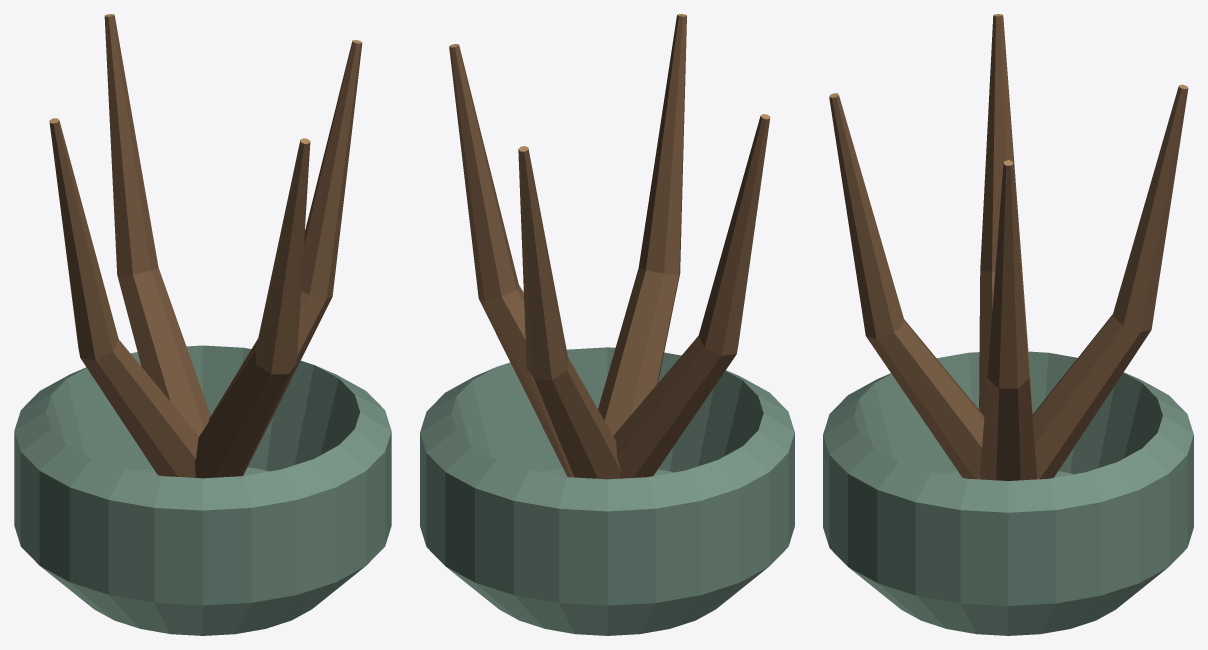
File: root_resonator.glb
The picture shows the model from 3 angles, left to right: view 1: azimuth 30°, elevation 25°; view 2: azimuth 150°, elevation 25°; view 3: azimuth 270°, elevation 25°; orthographic projection.
Parts seen in each view (by area): view 1: Root resonator • ceramic root cradle; view 2: Root resonator • ceramic root cradle; view 3: Root resonator • ceramic root cradle.
Part boxes in pixels (left/top/right/bottom): Root resonator • ceramic root cradle: left=14, top=14, right=391, bottom=635; Root resonator • ceramic root cradle: left=420, top=14, right=794, bottom=635; Root resonator • ceramic root cradle: left=823, top=14, right=1193, bottom=635.
Size of the model in its own units: 0.36 by 0.531 by 0.36.
